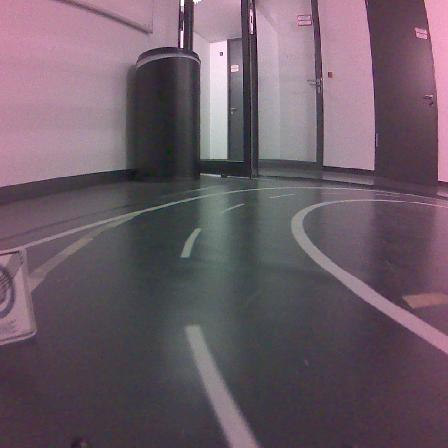30_ZONE_END: (0, 247, 37, 346)
